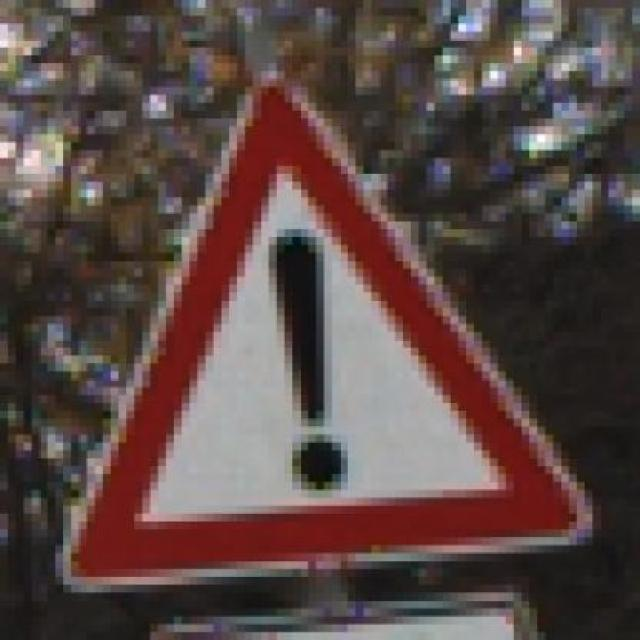Attention Please-: (47, 71, 601, 592)
